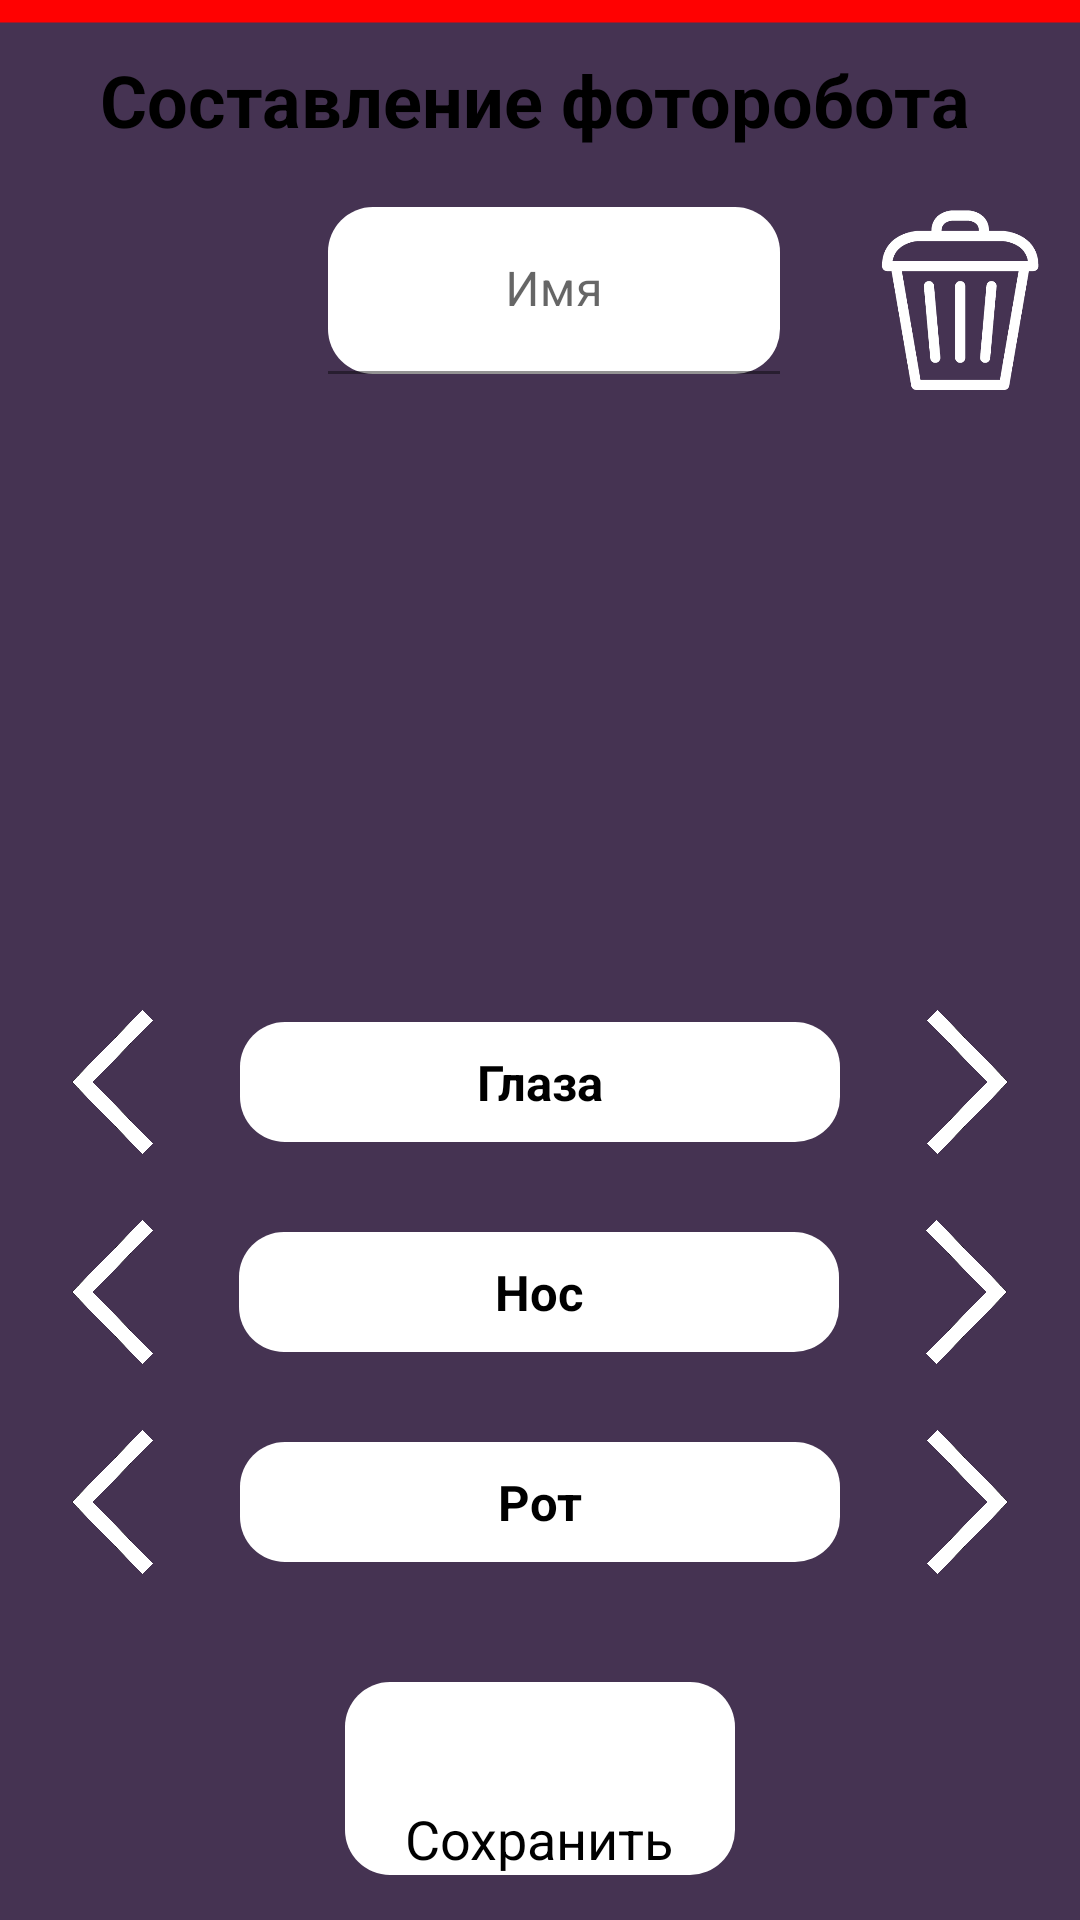

Icon bounding boxes for this 1080 x 1920 phone screenshot, format (x1, y1, x2, y2):
arrow left: (73, 1010, 153, 1154), (73, 1220, 153, 1364), (73, 1430, 153, 1574)
arrow right: (927, 1010, 1007, 1154), (926, 1220, 1006, 1364), (927, 1430, 1007, 1574)
trashcan: (882, 210, 1039, 390)
